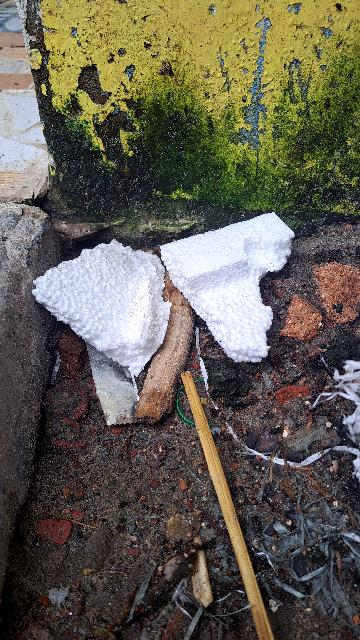cocksheet: (28, 187, 310, 414)
